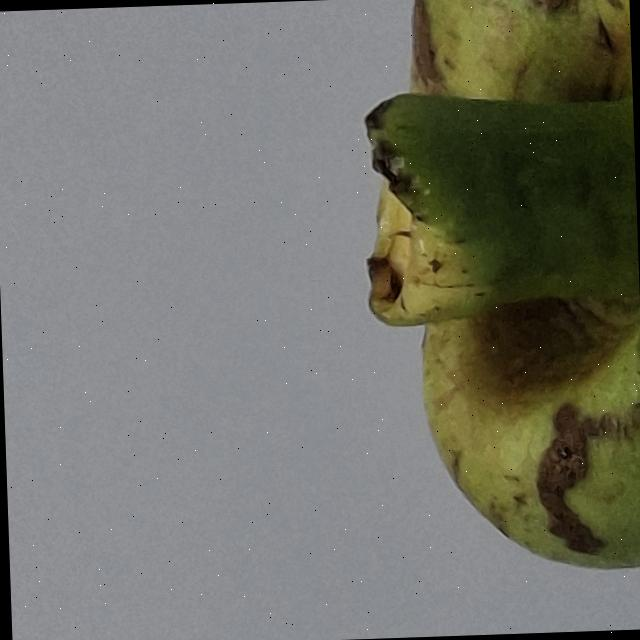mangosteen: (299, 0, 640, 640)
